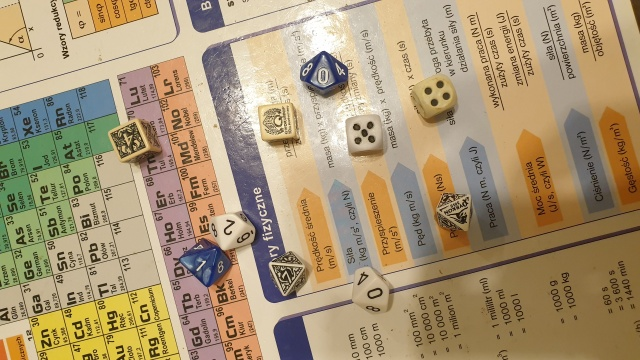d10-1: (178, 238, 232, 289)
d10-10: (297, 48, 352, 99), (350, 262, 394, 316)
d10-2: (205, 210, 258, 250)
d6-4: (411, 74, 458, 121)
d6-5: (343, 111, 387, 155)
d6p-4: (106, 119, 162, 165)
d6p-6: (255, 100, 301, 148)
d8p-1: (433, 189, 476, 237)
d8p-7: (267, 248, 310, 299)
